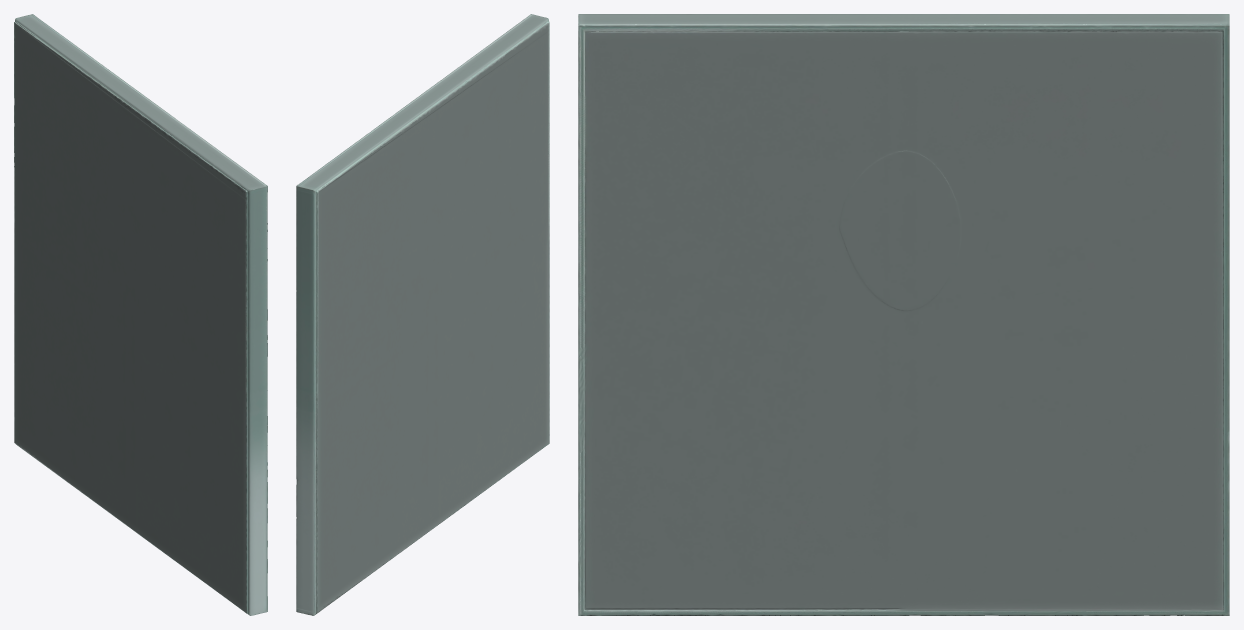
File: glass_reed.glb
The picture shows the model from 3 angles, left to right: view 1: azimuth 30°, elevation 25°; view 2: azimuth 150°, elevation 25°; view 3: azimuth 270°, elevation 25°; orthographic projection. The views are drawn at different scales.
Parts seen in each view (by area): view 1: tripo_node_9dc9537c-58f4-4362-b39a-8ac3fd1658fe; view 2: tripo_node_9dc9537c-58f4-4362-b39a-8ac3fd1658fe; view 3: tripo_node_9dc9537c-58f4-4362-b39a-8ac3fd1658fe.
Part boxes in pixels (x1,y1,x2,y2): tripo_node_9dc9537c-58f4-4362-b39a-8ac3fd1658fe: (14, 14, 267, 615); tripo_node_9dc9537c-58f4-4362-b39a-8ac3fd1658fe: (296, 14, 549, 615); tripo_node_9dc9537c-58f4-4362-b39a-8ac3fd1658fe: (578, 14, 1229, 615).
Bounding box in the file's own units: 0.0502 × 1 × 0.9999.
Materials: 1 (1 with a texture image).
